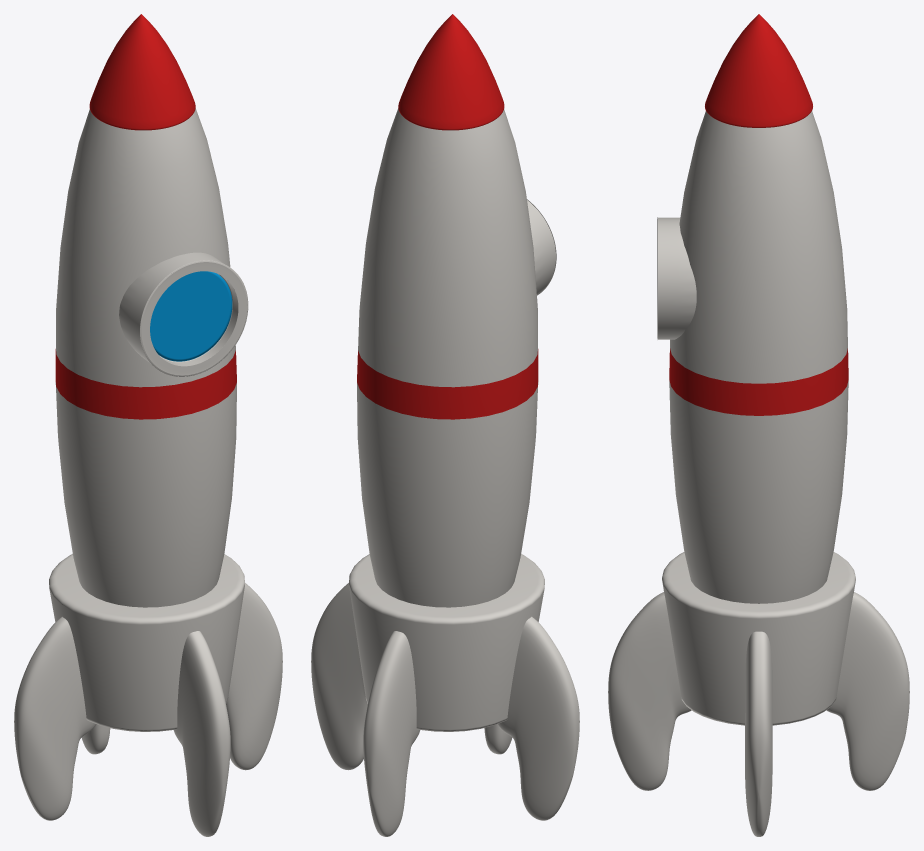
Rendered from Rocket.fbx.
3 views of the same model, side by side, from view 1: azimuth 30°, elevation 25°; view 2: azimuth 150°, elevation 25°; view 3: azimuth 270°, elevation 25° (orthographic).
Visible parts, largest first — view 1: Sphere, Cylinder.001, Cylinder, Cube.002, Cube.003, Cone, Cube, Cube.001; view 2: Sphere, Cylinder.001, Cube.002, Cube.001, Cone, Cube, Cylinder, Cube.003; view 3: Sphere, Cylinder.001, Cube.001, Cube.003, Cone, Cube, Cylinder.
Boxes of the visible parts, x1=… form: Sphere: x1=55, y1=108, x2=236, y2=607; Cylinder.001: x1=49, y1=554, x2=244, y2=731; Cylinder: x1=119, y1=252, x2=248, y2=376; Cube.002: x1=14, y1=616, x2=96, y2=820; Cube.003: x1=173, y1=631, x2=230, y2=836; Cone: x1=89, y1=14, x2=195, y2=130; Cube: x1=226, y1=583, x2=282, y2=770; Cube.001: x1=81, y1=724, x2=110, y2=754; Sphere: x1=357, y1=108, x2=538, y2=607; Cylinder.001: x1=349, y1=554, x2=544, y2=731; Cube.002: x1=497, y1=616, x2=579, y2=820; Cube.001: x1=363, y1=631, x2=420, y2=836; Cone: x1=398, y1=14, x2=504, y2=130; Cube: x1=311, y1=583, x2=367, y2=770; Cylinder: x1=527, y1=199, x2=556, y2=295; Cube.003: x1=484, y1=724, x2=512, y2=754; Sphere: x1=669, y1=111, x2=848, y2=603; Cylinder.001: x1=662, y1=552, x2=855, y2=725; Cube.001: x1=826, y1=592, x2=909, y2=790; Cube.003: x1=608, y1=592, x2=691, y2=790; Cone: x1=705, y1=14, x2=812, y2=127; Cube: x1=745, y1=631, x2=772, y2=836; Cylinder: x1=657, y1=217, x2=696, y2=339.
Size of the model in its own units: 176 by 498 by 176.
